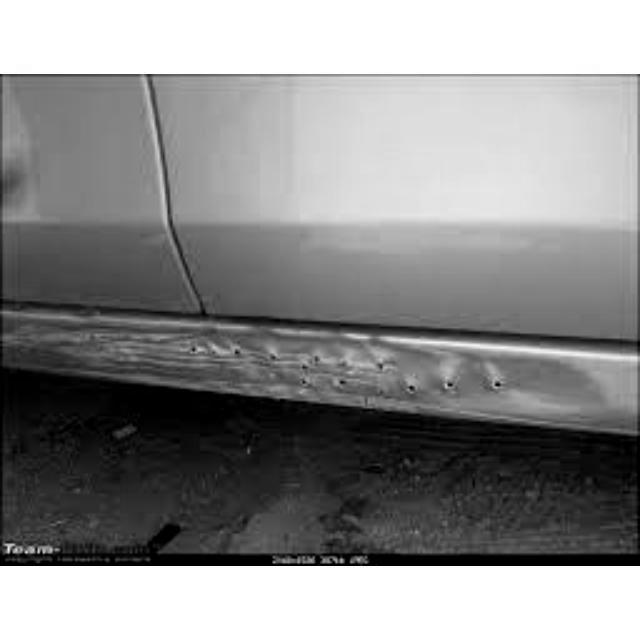Runningboard-Damage: (6, 310, 623, 427)
